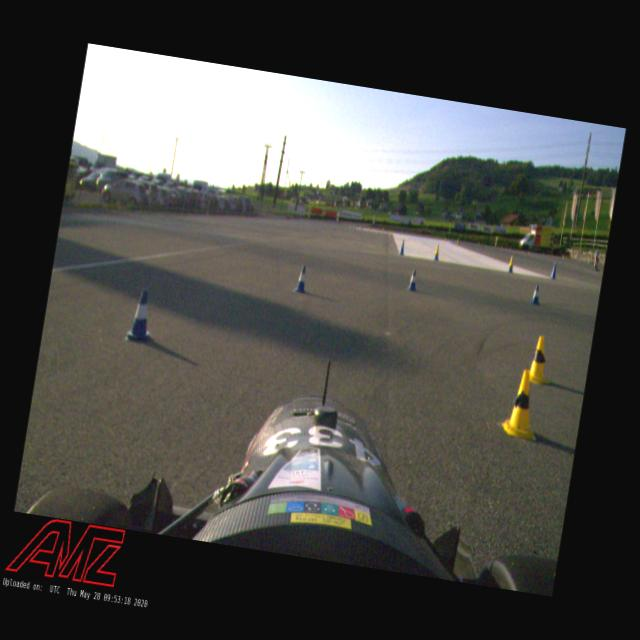blue_cone: (124, 286, 158, 344), (293, 264, 310, 296), (407, 268, 420, 292), (530, 284, 543, 306), (550, 262, 559, 279), (399, 238, 406, 256), (433, 254, 439, 262), (508, 266, 513, 273)
yellow_cone: (502, 367, 544, 442), (528, 334, 554, 386), (508, 254, 514, 267), (434, 243, 440, 255)
